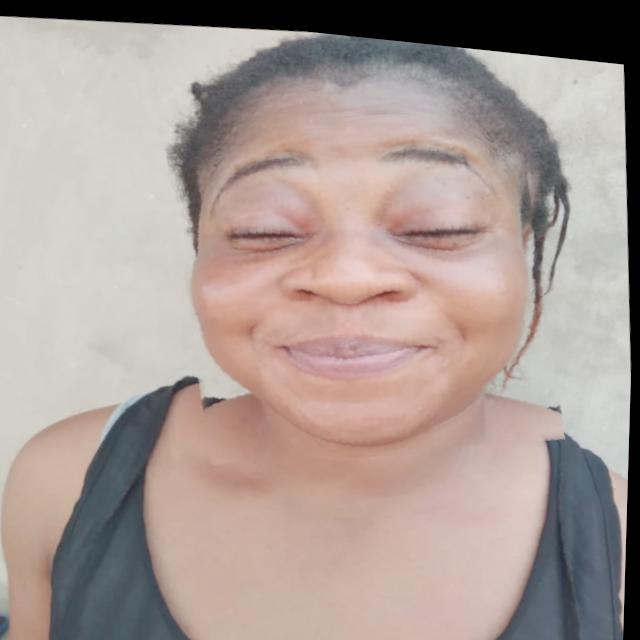happy: (153, 13, 567, 479)
